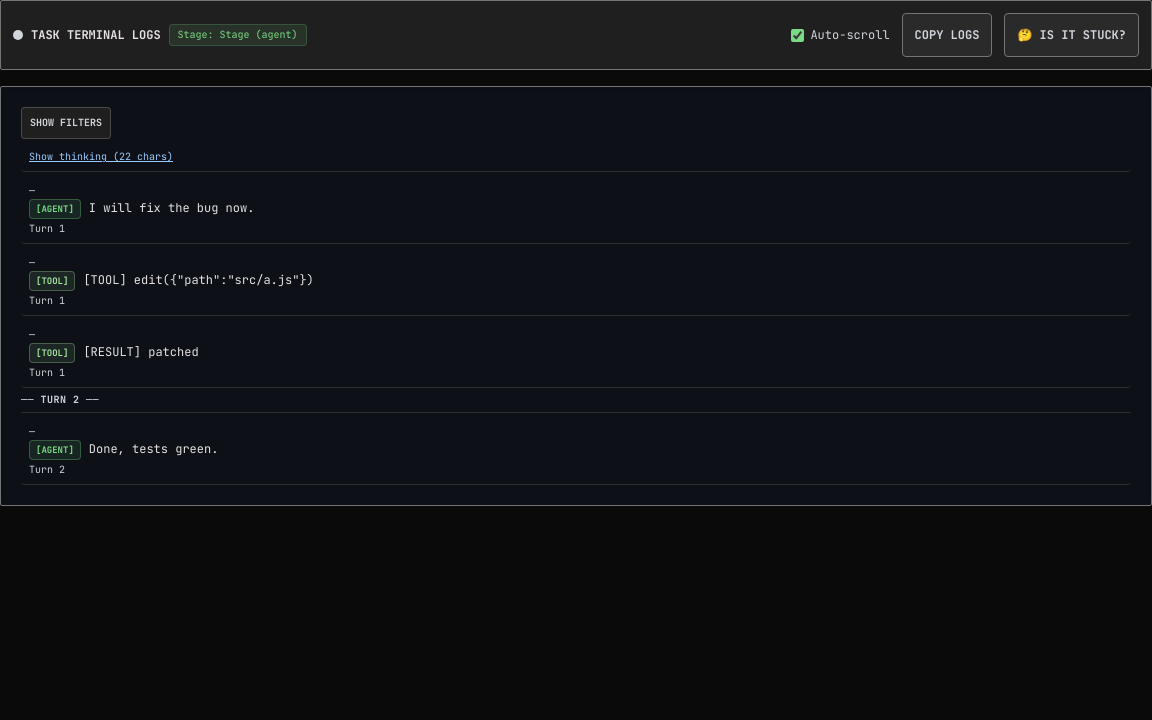
Test: thinking expander reveals the full block via aria-expanded
The width and height of the screenshot is (1152, 720).
(page scrolled)
expect the text "hidden model reasoning" is not shown: met
Step 1. Click the button "Show thinking (22 chars)" → (101, 157), box [29,149,173,165]
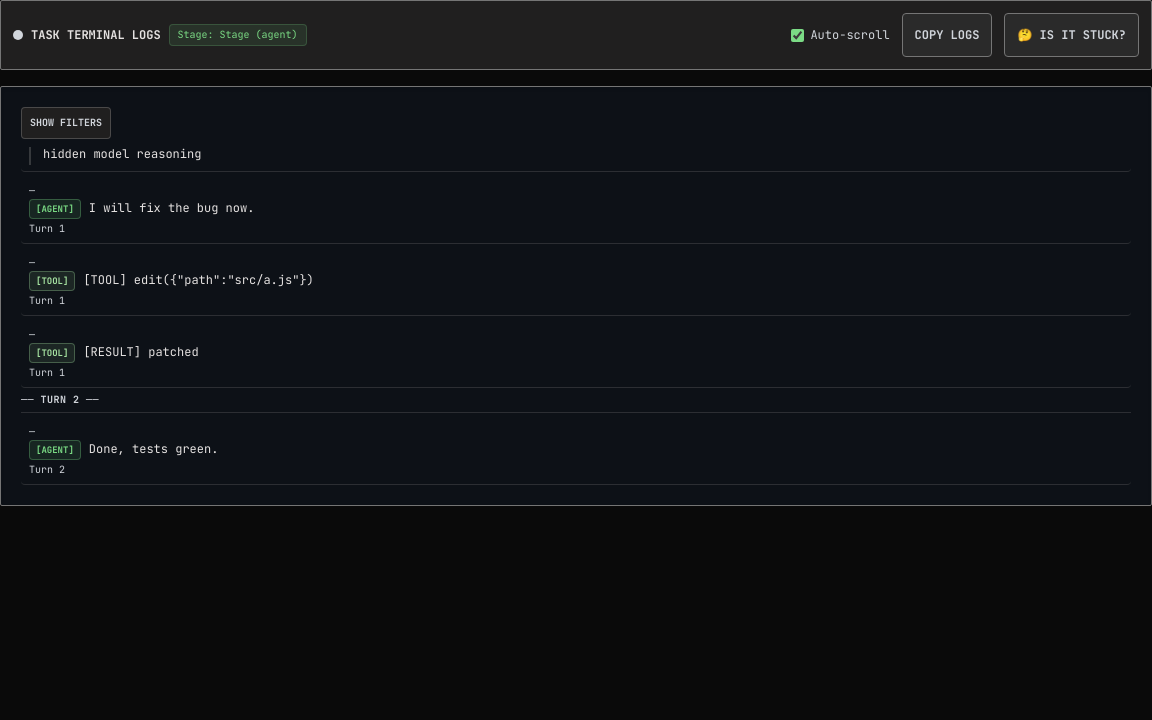
expect the text "hidden model reasoning" is shown: met, box [29,147,1123,164]
